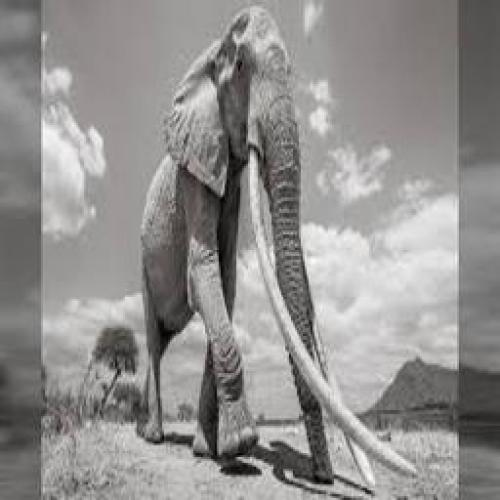african_elephant-endangered: (131, 17, 418, 484)
